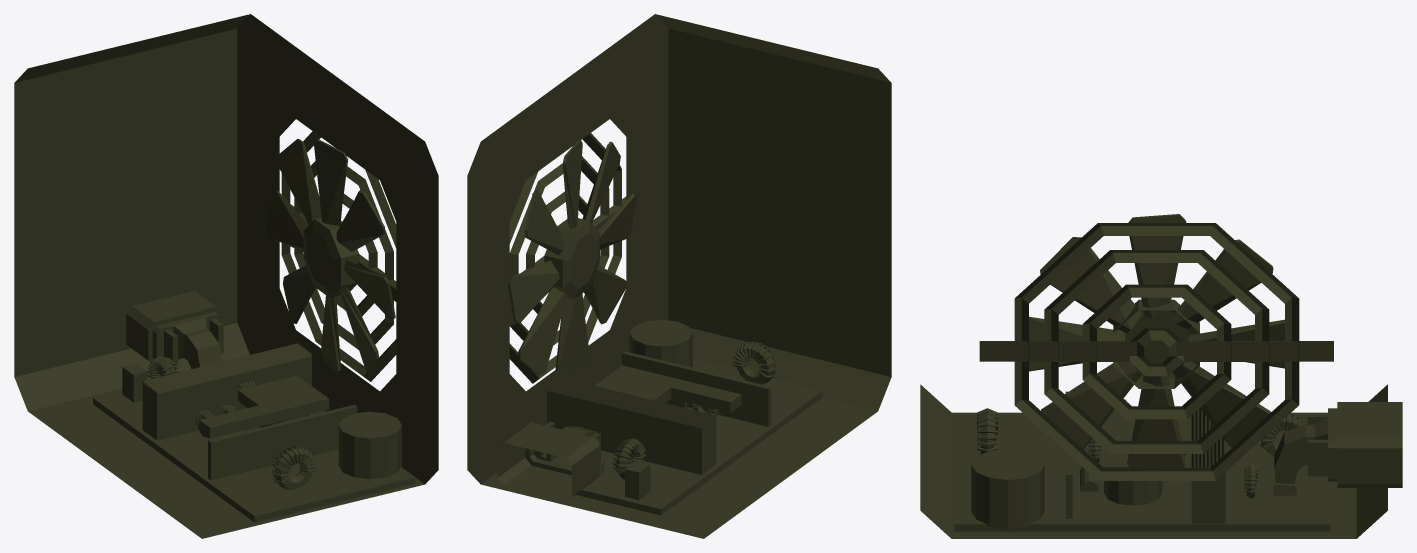
File: PC_Dianyuan.FBX
The picture shows the model from 3 angles, left to right: view 1: azimuth 30°, elevation 25°; view 2: azimuth 150°, elevation 25°; view 3: azimuth 270°, elevation 25°; orthographic projection. The views are drawn at different scales.
Parts seen in each view (by area): view 1: PC_Dianyuan; view 2: PC_Dianyuan; view 3: PC_Dianyuan.
Boxes of the visible parts, <box> form: PC_Dianyuan: <box>14,14,438,538</box>; PC_Dianyuan: <box>467,14,891,538</box>; PC_Dianyuan: <box>920,214,1402,538</box>.
Size of the model in its own units: 22.97 by 32.6 by 35.64.
